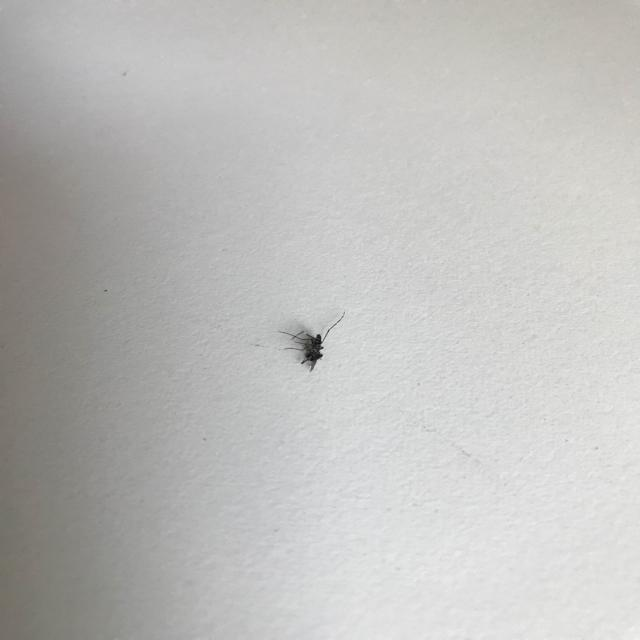albopictus: (269, 306, 348, 375)
